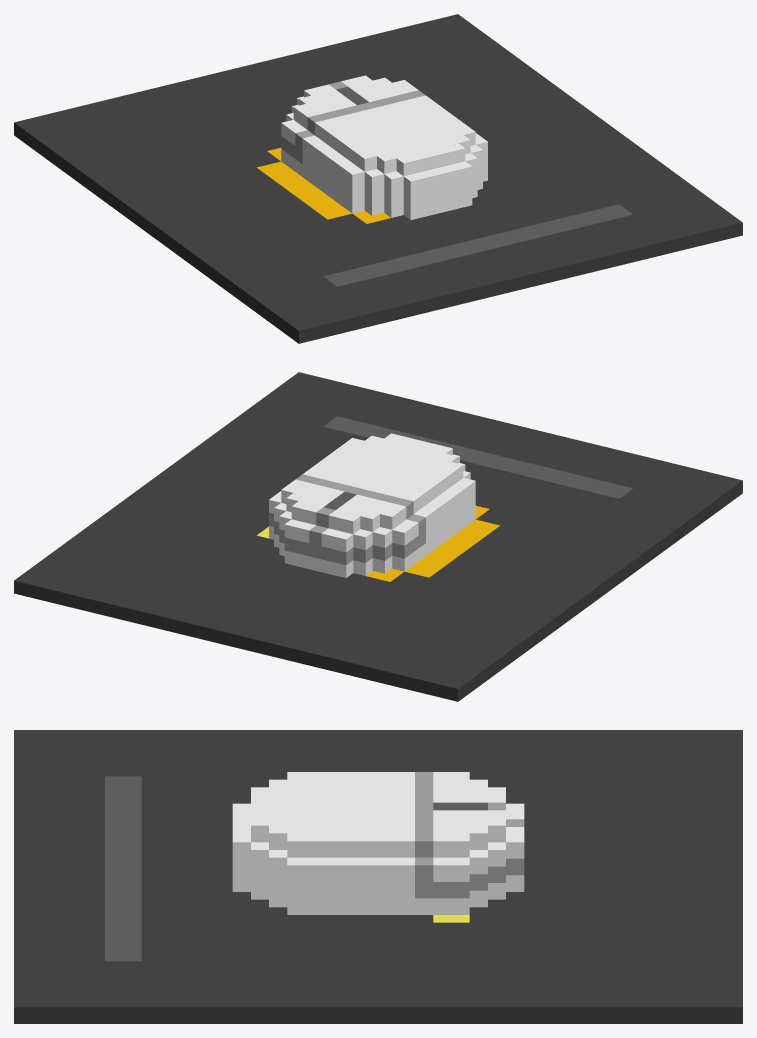
Rendered from Mouse2.fbx.
The picture shows the model from 3 angles, top to bottom: view 1: azimuth 30°, elevation 25°; view 2: azimuth 150°, elevation 25°; view 3: azimuth 270°, elevation 25°; orthographic projection. The views are drawn at different scales.
Visible parts, largest first — view 1: Mouse2.001, Mouse2; view 2: Mouse2.001, Mouse2; view 3: Mouse2.001, Mouse2.
Part boxes in pixels (x1,y1,x2,y2): Mouse2.001: [14, 14, 742, 343]; Mouse2: [281, 75, 487, 219]; Mouse2.001: [14, 372, 742, 701]; Mouse2: [269, 433, 475, 577]; Mouse2.001: [14, 730, 742, 1023]; Mouse2: [232, 772, 524, 914].
Bounding box in the file's own units: 3.6 × 0.5 × 4.
